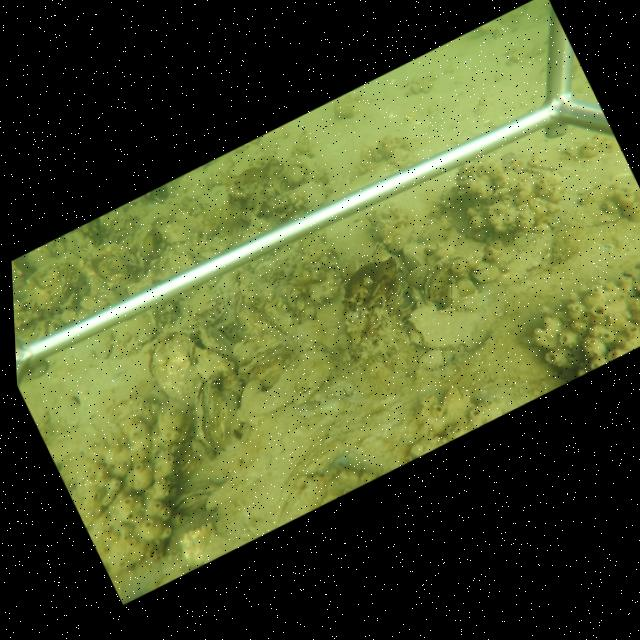Oyster-Closed: (241, 345, 336, 420), (407, 305, 491, 350), (148, 331, 197, 404), (194, 374, 237, 452), (240, 340, 294, 381), (196, 344, 241, 390), (275, 179, 328, 216), (423, 256, 458, 302), (259, 294, 294, 334), (197, 321, 233, 353), (389, 225, 415, 252), (403, 243, 424, 266), (166, 459, 181, 490), (444, 280, 460, 305)
Oyster-Open: (170, 481, 213, 513)
